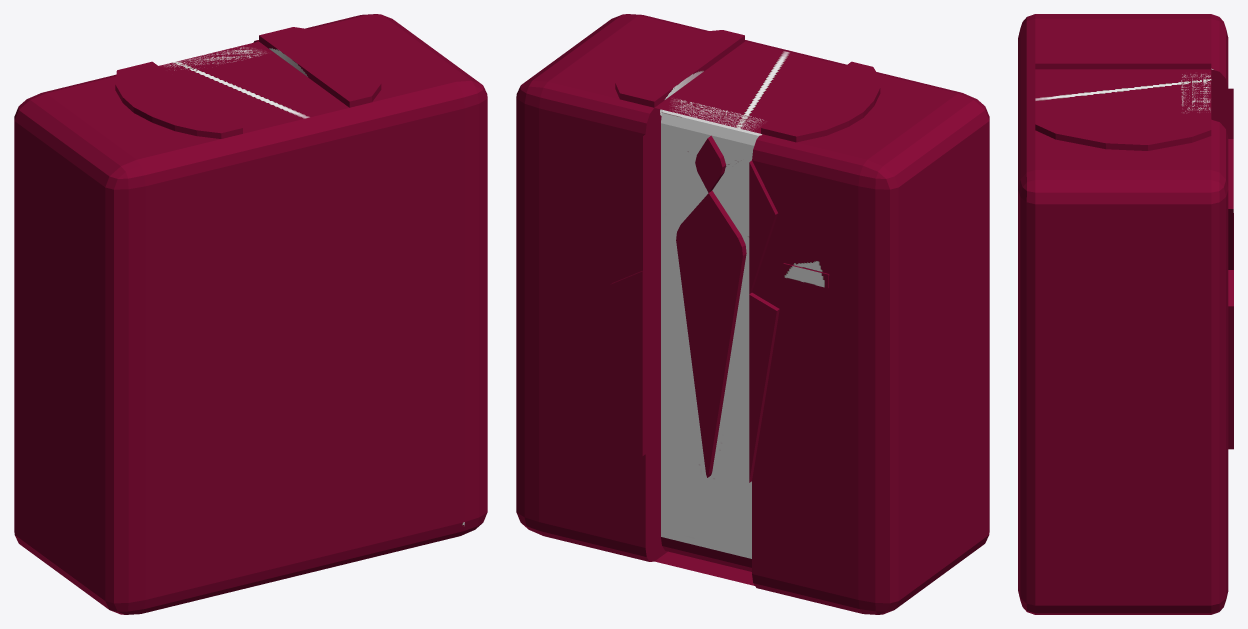
The model's file is rrobloxrig_torso.glb.
3 renders of one model, left to right at view 1: azimuth 30°, elevation 25°; view 2: azimuth 150°, elevation 25°; view 3: azimuth 270°, elevation 25°, orthographic. The views are drawn at different scales.
Parts seen in each view (by area): view 1: Cube; view 2: Cube; view 3: Cube.
Part boxes in pixels (left/top/right/bottom): Cube: left=14, top=14, right=487, bottom=614; Cube: left=516, top=14, right=989, bottom=614; Cube: left=1018, top=14, right=1233, bottom=614.
Size of the model in its own units: 3.3 by 3.8 by 1.67.
Materials: 1 (1 with a texture image).
